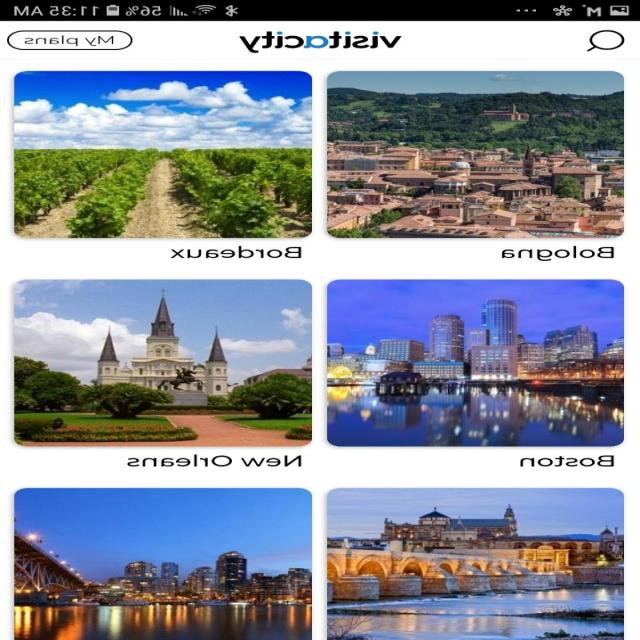Icon: (586, 29, 625, 52)
Image: (14, 279, 313, 446), (327, 279, 625, 446), (15, 71, 313, 238), (327, 71, 625, 238), (15, 487, 314, 640), (327, 487, 624, 640), (239, 32, 403, 54)
Text: (127, 454, 302, 466), (501, 245, 615, 261), (171, 245, 301, 258), (520, 455, 614, 466)
TextButton: (8, 30, 134, 50)
